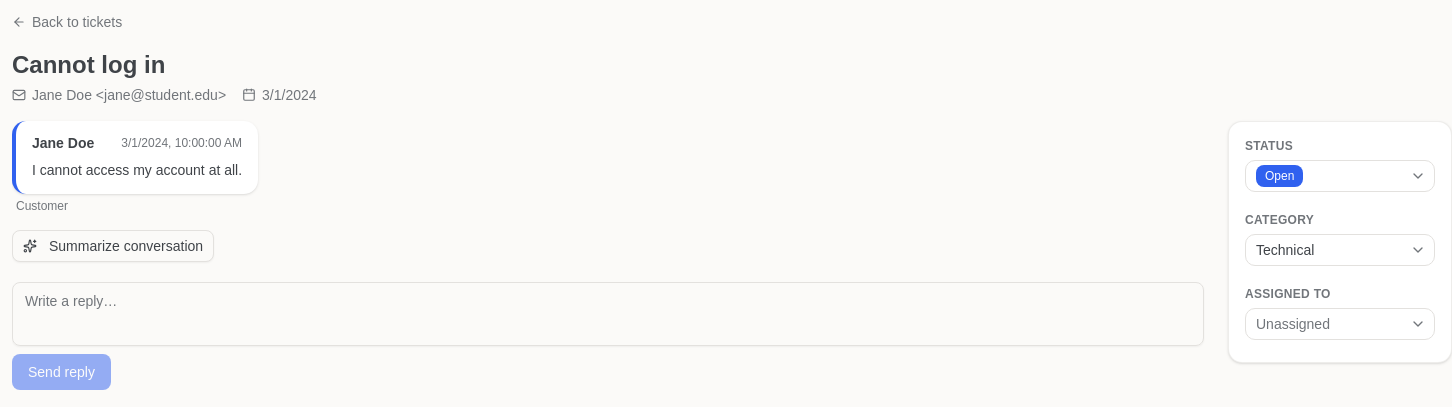
Test: Reply Form › shows 'Sending…' on the button while the mutation is in flight
The width and height of the screenshot is (1452, 407).
Step 1. Type "Hello" into the text box with placeholder "Write a reply…" → (608, 314), box [12,282,1204,346]
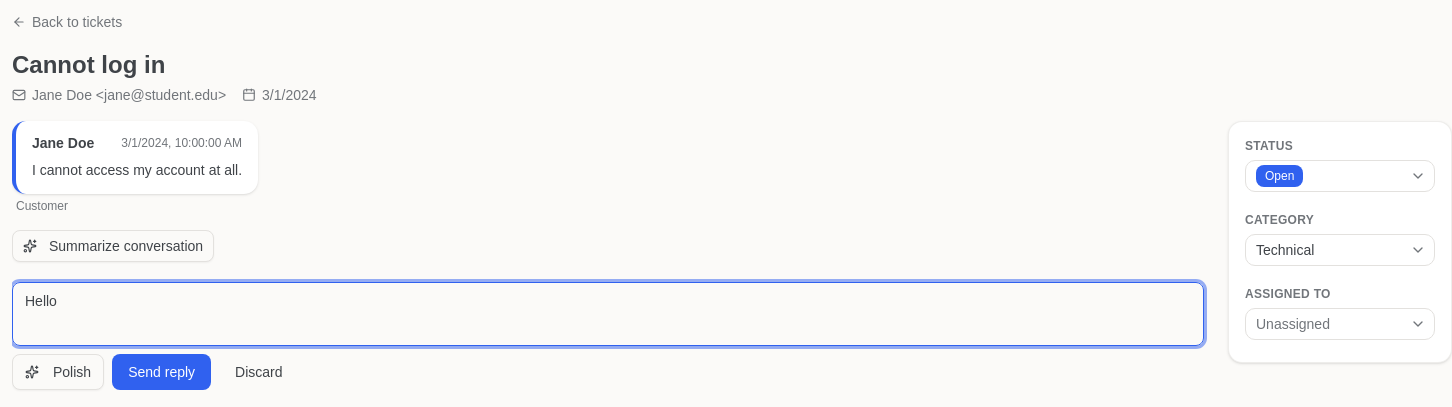
Step 2. Click the button "Send reply" → (162, 372), box [112,354,211,390]
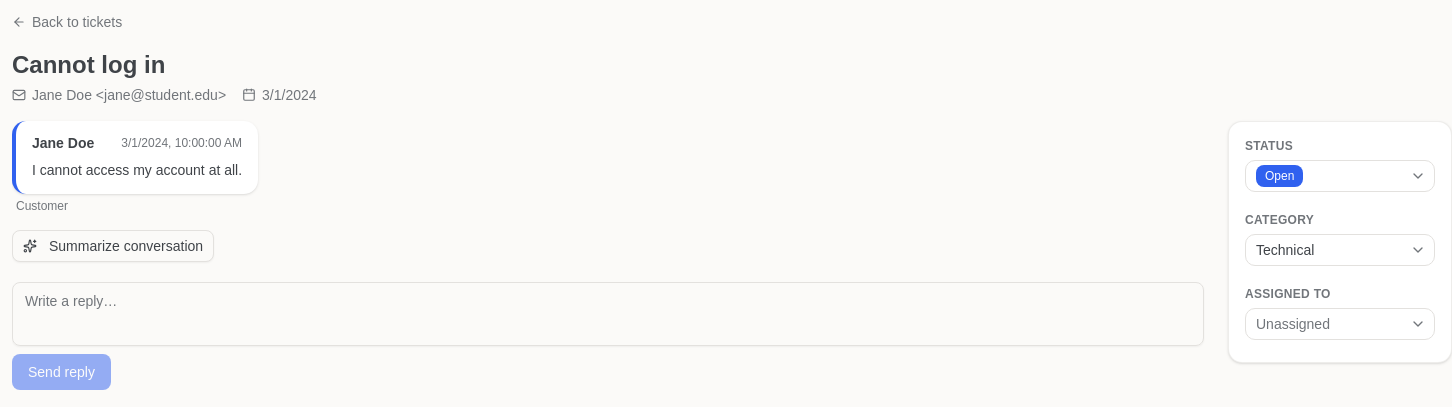
Result: the button named "sending" is disabled at [12,354,111,390]
